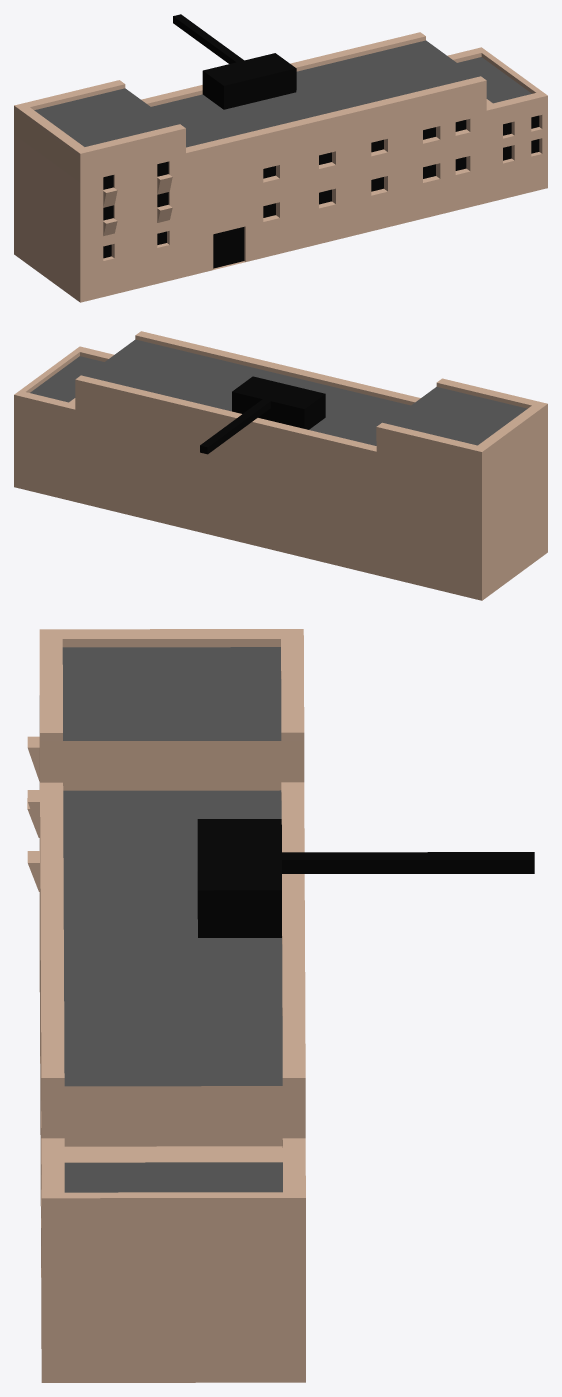
File: Boiler_Room.glb
3 renders of one model, top to bottom at view 1: azimuth 30°, elevation 25°; view 2: azimuth 150°, elevation 25°; view 3: azimuth 270°, elevation 25°, orthographic. The views are drawn at different scales.
Visible parts, largest first — view 1: Cube_33; view 2: Cube_33; view 3: Cube_33.
Boxes of the visible parts, x1=… form: Cube_33: x1=14, y1=14, x2=547, y2=302; Cube_33: x1=14, y1=331, x2=547, y2=600; Cube_33: x1=27, y1=629, x2=534, y2=1382.
Size of the model in its own units: 4.69 by 1.43 by 2.2.
